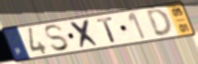1: (126, 11, 147, 42)
4: (27, 26, 49, 56)
D: (145, 7, 174, 37)
S: (43, 23, 72, 52)
T: (95, 16, 118, 44)
X: (68, 18, 103, 50)
